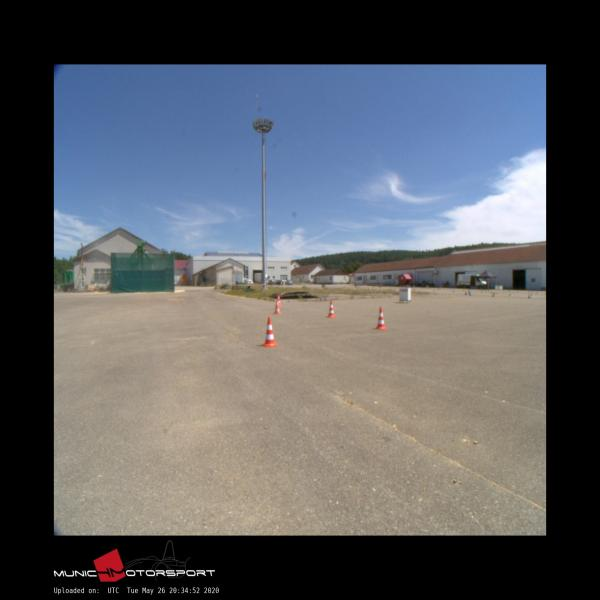large_orange_cone: (263, 317, 277, 346), (375, 307, 387, 329), (327, 300, 335, 317), (274, 298, 281, 313), (277, 294, 281, 306)
